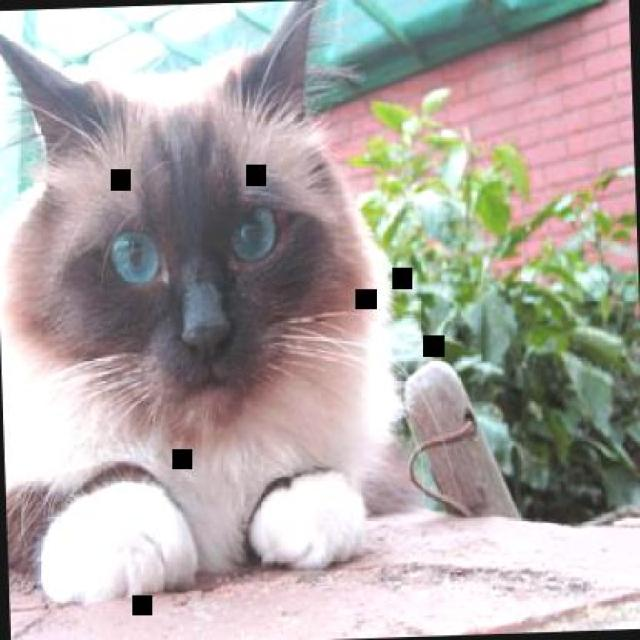cat: (0, 0, 418, 614)
